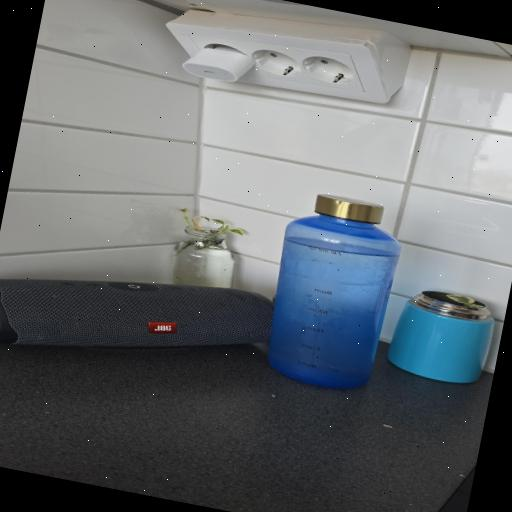bottle: (238, 170, 412, 398)
